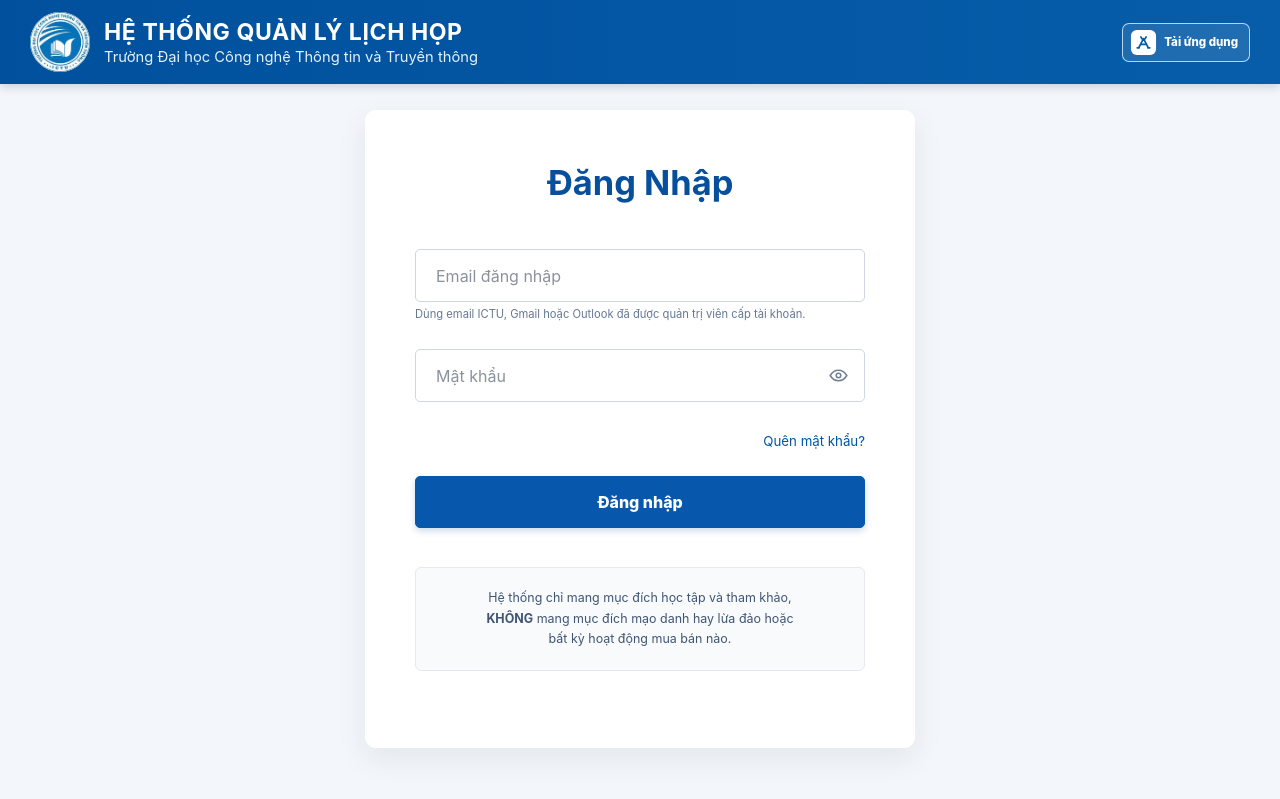
Scenario: LoginPage › shows the new ICTU login identity and only the requested author
Expected: the text "HỆ THỐNG QUẢN LÝ LỊCH HỌP" is shown, [104, 18, 478, 46]
Expected: the button "Tải ứng dụng" is shown, [1122, 22, 1250, 62]
Click the button "Quên mật khẩu?": (814, 441) [763, 433, 865, 449]
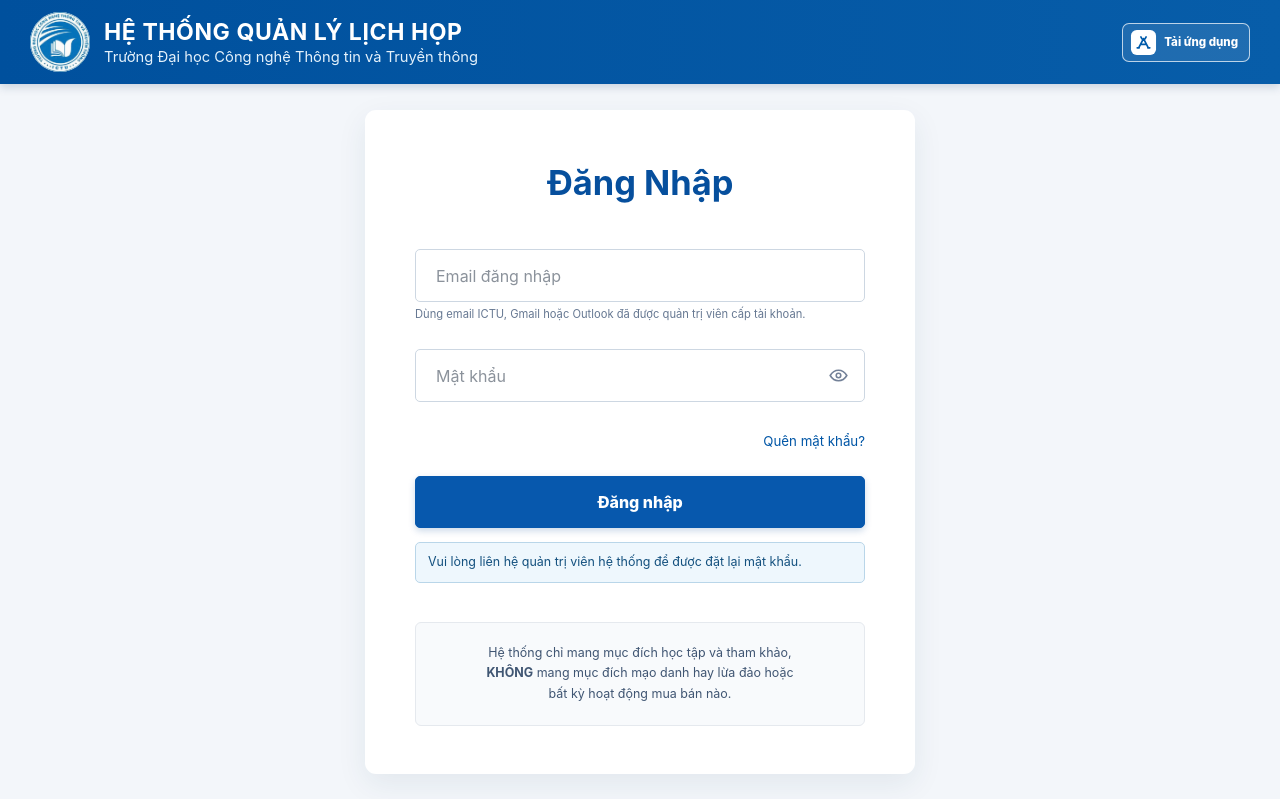
Now the message shows "liên hệ quản trị viên", box [428, 554, 802, 569]
